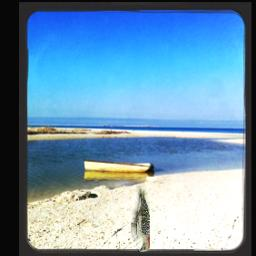Woodpecker: (132, 184, 151, 253)
